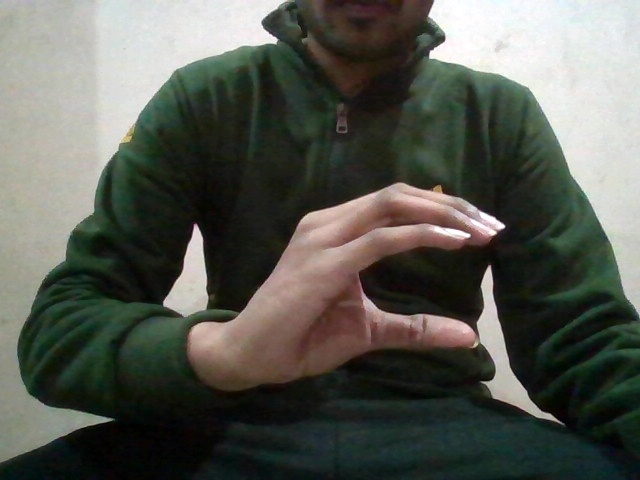C: (224, 180, 505, 378)
